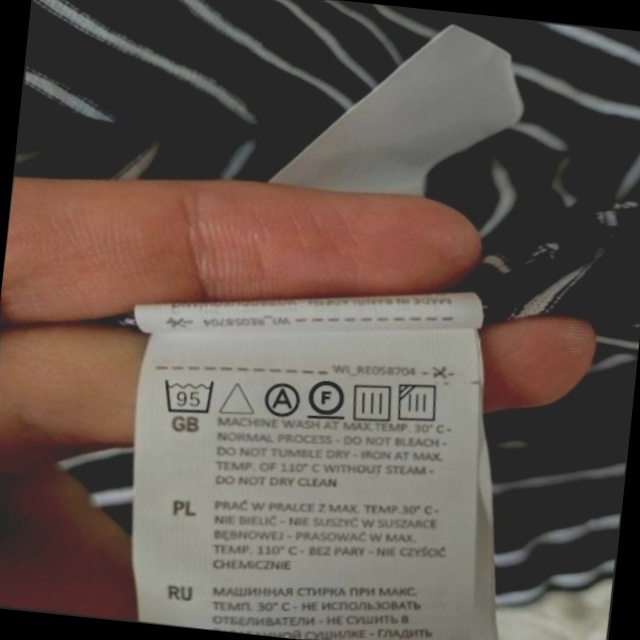95C: (159, 372, 220, 419)
bleach: (217, 374, 258, 421)
drip_dry: (347, 377, 398, 426)
drip_dry_in_shade: (394, 378, 446, 428)
dry_clean: (259, 378, 303, 421)
dry_clean_petrol_only: (304, 373, 350, 424)
